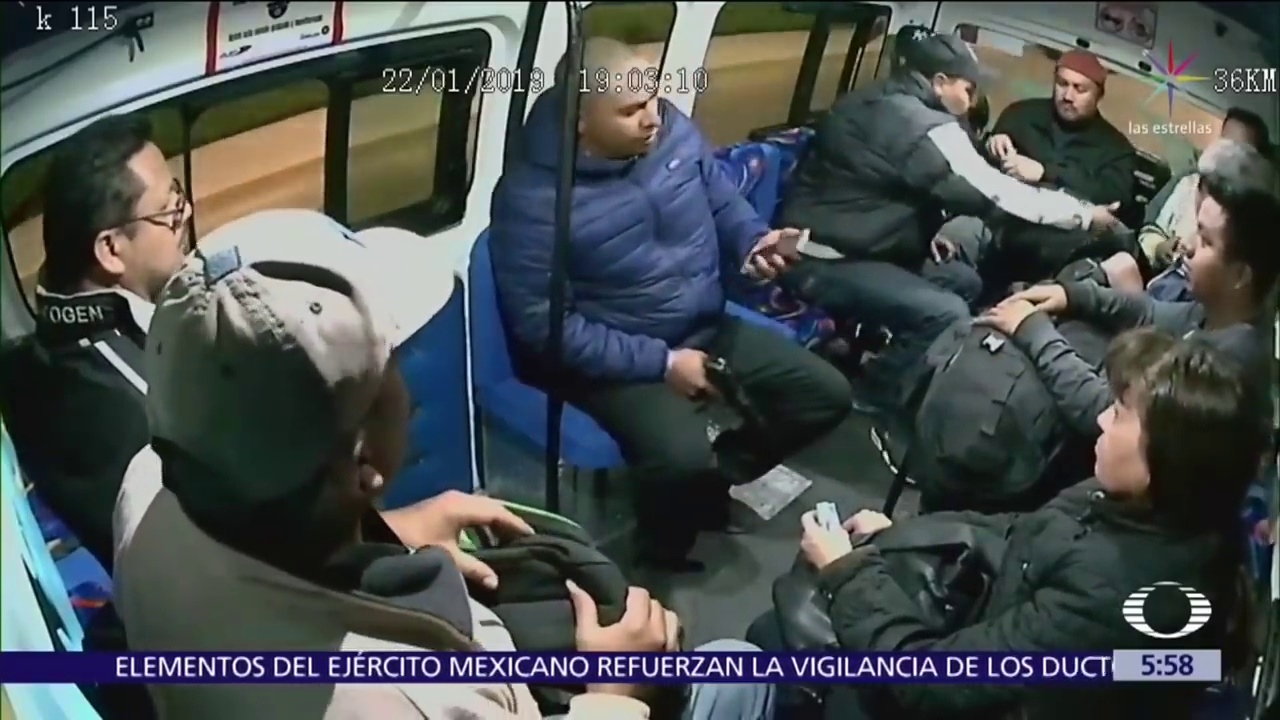pistol: (691, 355, 766, 425)
